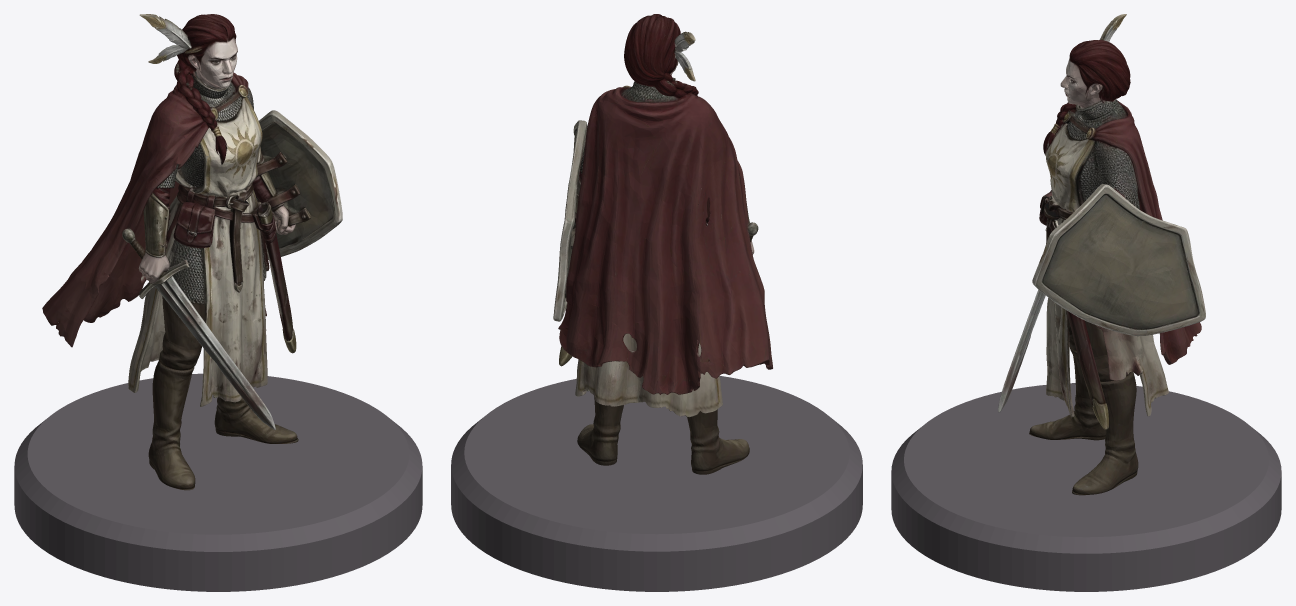
Rendered from isolde.glb.
3 views of the same model, side by side, from view 1: azimuth 30°, elevation 25°; view 2: azimuth 150°, elevation 25°; view 3: azimuth 270°, elevation 25° (orthographic). The views are drawn at different scales.
Visible parts, largest first — view 1: base, figure; view 2: base, figure; view 3: base, figure.
Boxes of the visible parts, left/top/right/bottom form: base: left=14, top=373, right=422, bottom=591; figure: left=42, top=14, right=342, bottom=490; base: left=451, top=375, right=862, bottom=591; figure: left=553, top=14, right=772, bottom=474; base: left=891, top=383, right=1281, bottom=591; figure: left=998, top=14, right=1205, bottom=495.
Bounding box in the file's own units: 25 × 33.2 × 25.
1 material, 1 textured.
